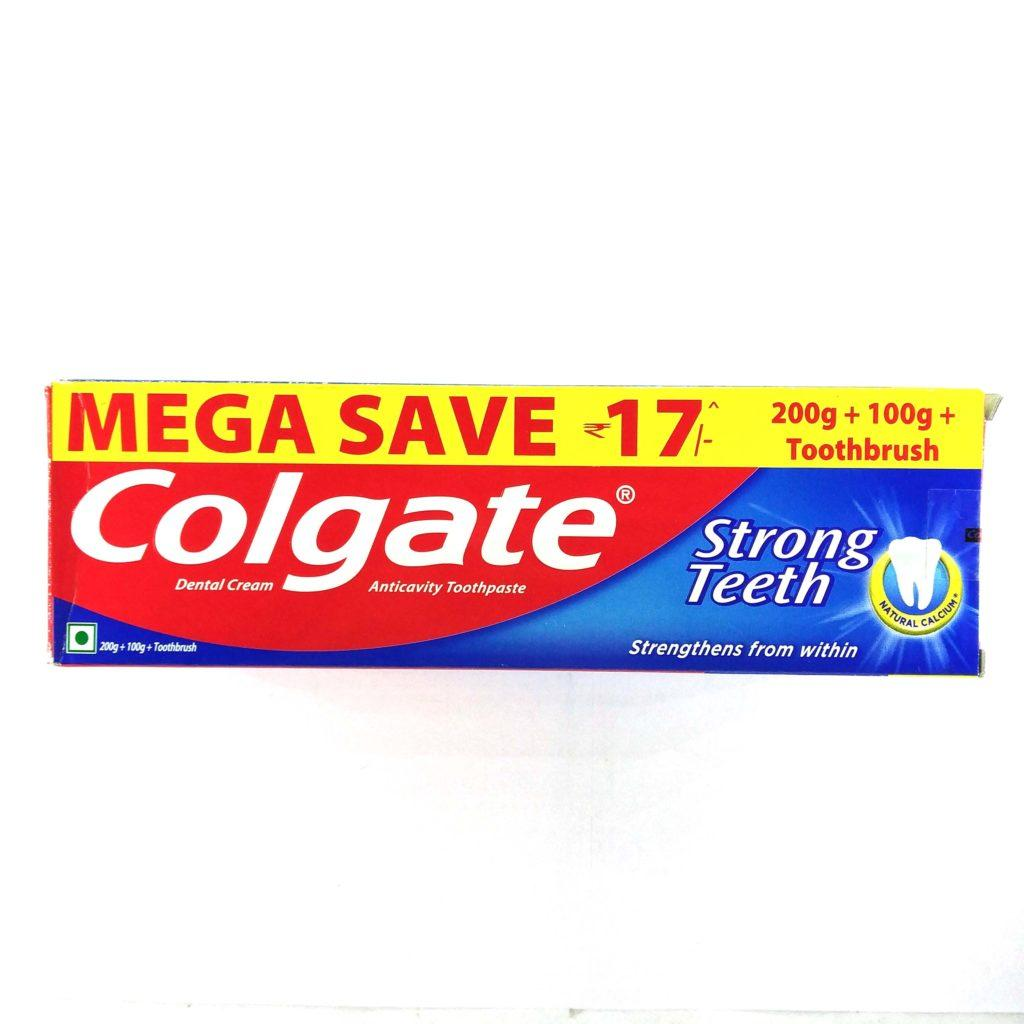toothpaste: (41, 361, 1002, 680)
